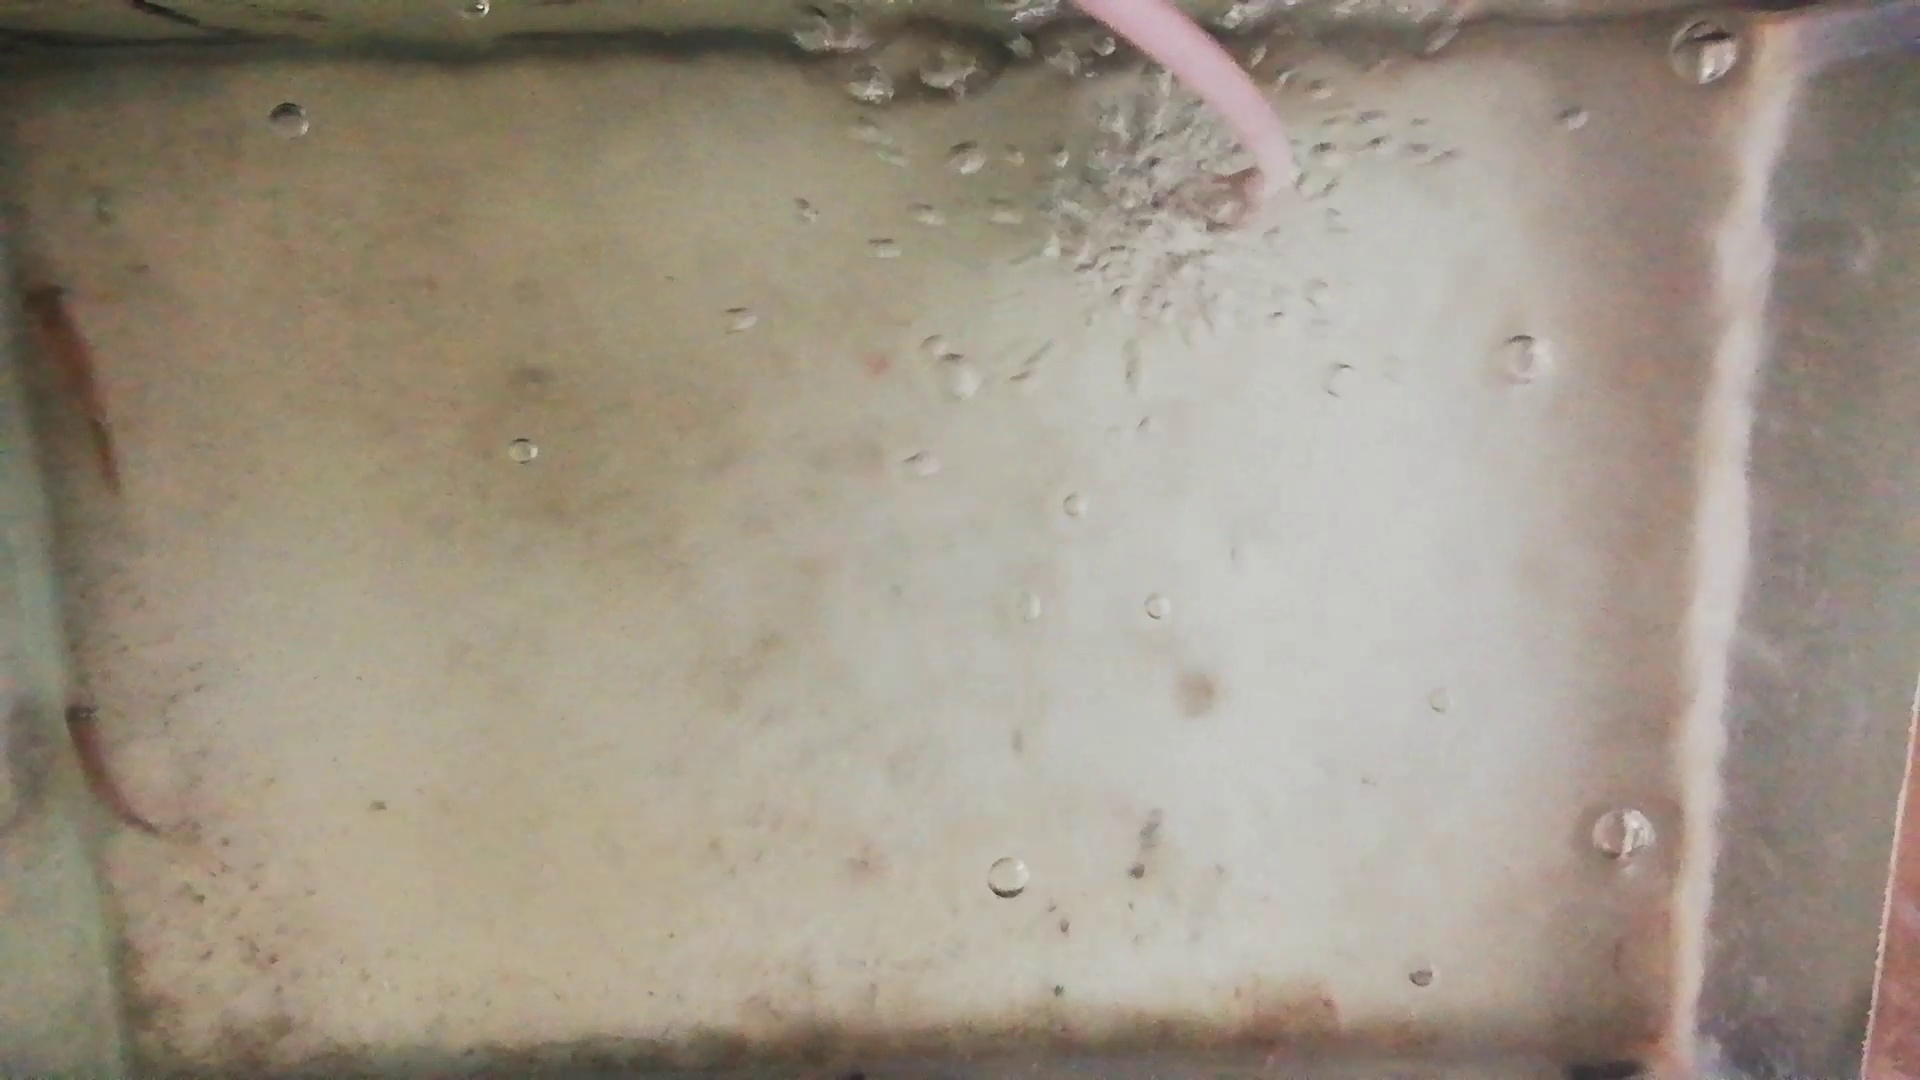fish: (22, 274, 121, 487), (63, 692, 154, 836)
